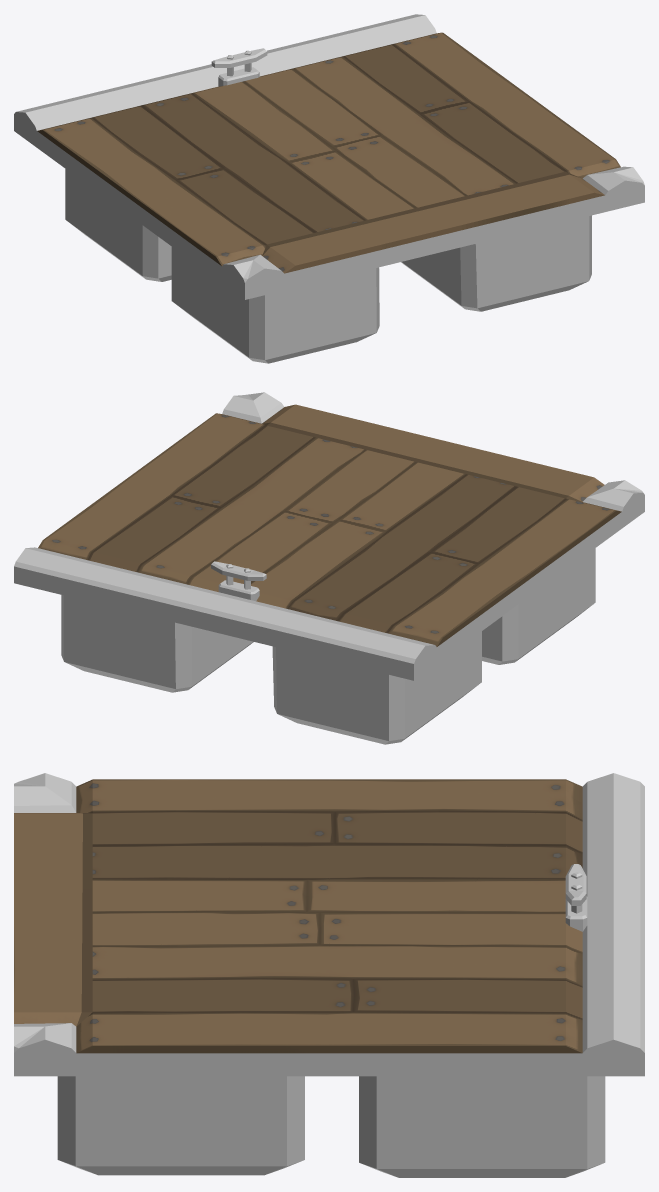
The model's file is SM_Bld_Dock_Platform_T_01.fbx.
3 views of the same model, one above another, from view 1: azimuth 30°, elevation 25°; view 2: azimuth 150°, elevation 25°; view 3: azimuth 270°, elevation 25° (orthographic). The views are drawn at different scales.
Visible parts, largest first — view 1: SM_Bld_Dock_Platform_T_01; view 2: SM_Bld_Dock_Platform_T_01; view 3: SM_Bld_Dock_Platform_T_01.
Part boxes in pixels (x1=…): SM_Bld_Dock_Platform_T_01: x1=14, y1=14, x2=644, y2=363; SM_Bld_Dock_Platform_T_01: x1=14, y1=392, x2=644, y2=744; SM_Bld_Dock_Platform_T_01: x1=14, y1=773, x2=644, y2=1177.
Bounding box in the file's own units: 250 × 83.51 × 250.
